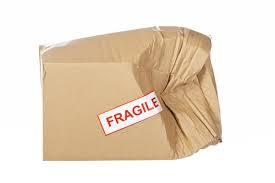damage_box: (37, 24, 223, 161)
